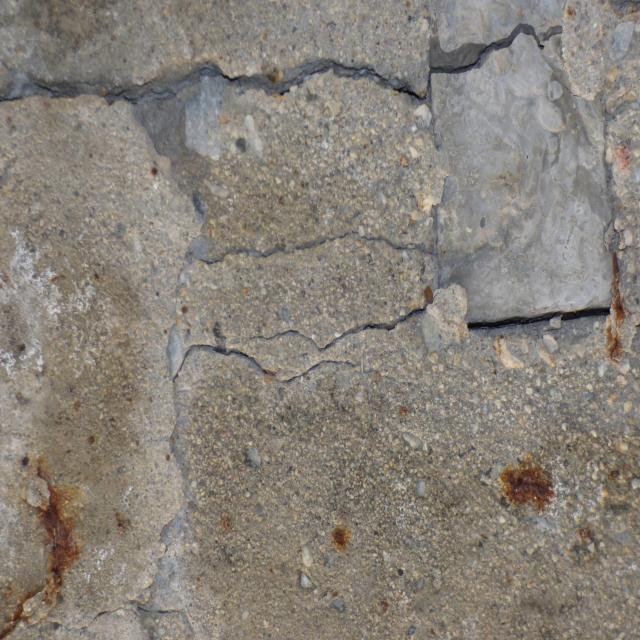corrosion: (0, 374, 145, 640), (488, 441, 640, 579), (597, 228, 629, 370), (206, 491, 246, 560), (320, 509, 362, 563), (372, 584, 401, 628), (419, 282, 439, 306)
